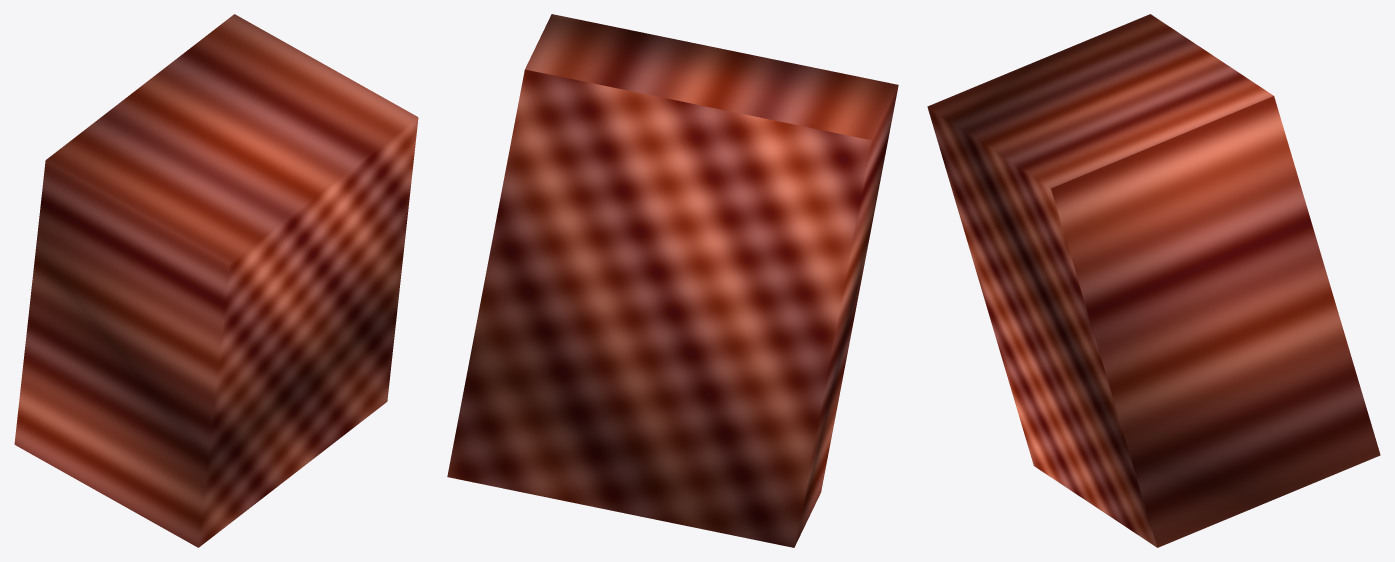
The model's file is cell_food_meat.fbx.
The picture shows the model from 3 angles, left to right: view 1: azimuth 30°, elevation 25°; view 2: azimuth 150°, elevation 25°; view 3: azimuth 270°, elevation 25°; orthographic projection. The views are drawn at different scales.
Visible parts, largest first — view 1: cell_food_meat_VIS; view 2: cell_food_meat_VIS; view 3: cell_food_meat_VIS.
Part boxes in pixels (bbox=[...]): cell_food_meat_VIS: bbox=[14, 14, 418, 547]; cell_food_meat_VIS: bbox=[447, 14, 898, 547]; cell_food_meat_VIS: bbox=[927, 14, 1380, 547].
Bounding box in the file's own units: 46.17 × 53.21 × 48.83.
